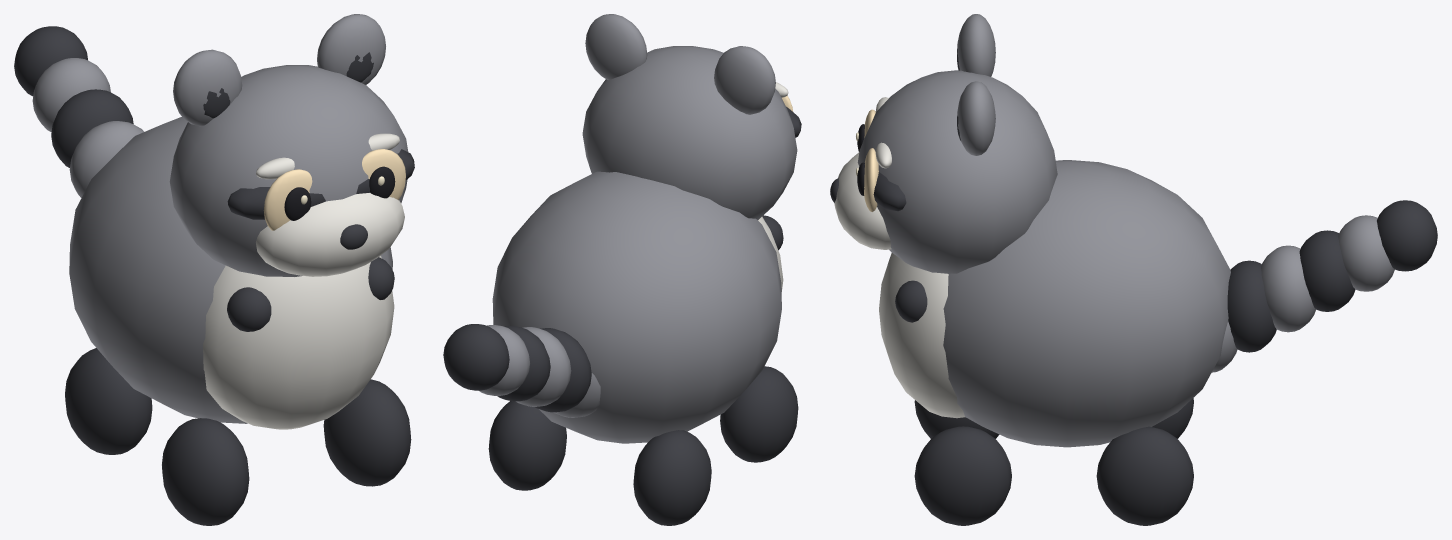
File: gemothy.glb
3 views of the same model, side by side, from view 1: azimuth 30°, elevation 25°; view 2: azimuth 150°, elevation 25°; view 3: azimuth 270°, elevation 25° (orthographic). The views are drawn at different scales.
Visible parts, largest first — view 1: body, leg (×3), tail, ear (×4), eye (×4); view 2: body, leg (×3), tail, ear (×2); view 3: body, leg (×4), tail, ear (×2), eye.
Part boxes in pixels (x1,y1,x2,y2): body: (69, 65, 414, 429); leg (×3): (65, 348, 411, 525); tail: (14, 26, 143, 197); ear (×4): (173, 14, 385, 126); eye (×4): (263, 149, 405, 230); body: (492, 46, 801, 443); leg (×3): (488, 366, 798, 525); tail: (443, 324, 600, 417); ear (×2): (585, 14, 775, 114); body: (830, 70, 1230, 447); leg (×4): (914, 398, 1193, 525); tail: (1212, 200, 1437, 372); ear (×2): (957, 14, 995, 155); eye: (864, 148, 878, 211).
Bounding box in the file's own units: 0.874 × 1.41 × 1.78.
